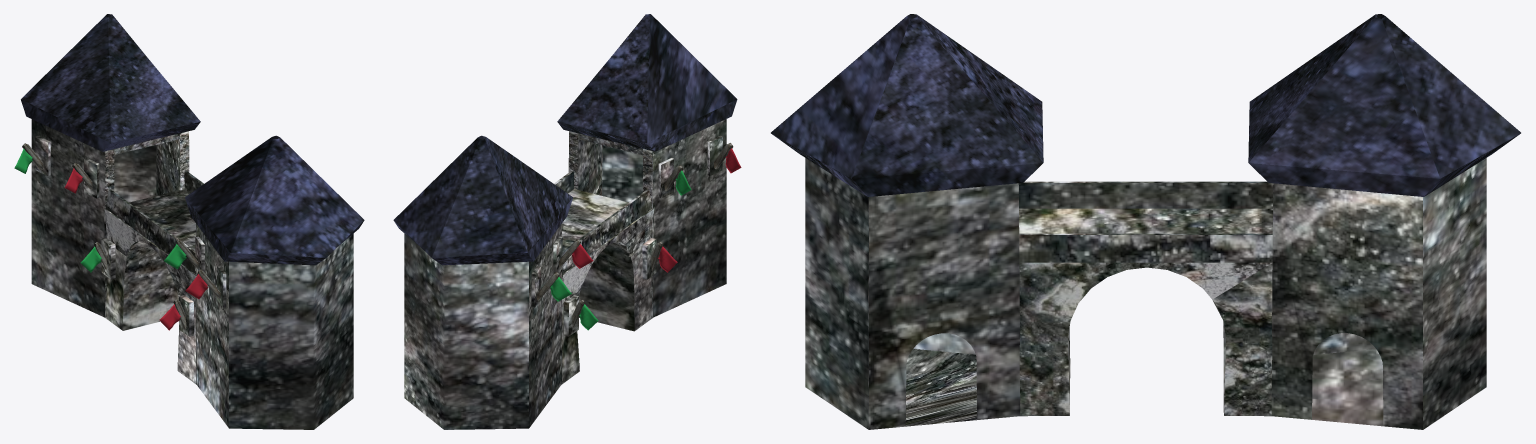
The model's file is it's lit.fbx.
3 views of the same model, side by side, from view 1: azimuth 30°, elevation 25°; view 2: azimuth 150°, elevation 25°; view 3: azimuth 270°, elevation 25° (orthographic). The views are drawn at different scales.
Parts seen in each view (by area): view 1: Cube.011, Cube.002, Cube.001, Plane.002, Plane.004, Plane.001, Plane.008; view 2: Cube.011, Cube.002, Cube.001, Plane.001, Plane.008, Plane.004, Plane.002; view 3: Cube.011, Cube.002, Cube.001.
Part boxes in pixels (x1,y1,x2,y2): Cube.011: (31, 119, 353, 429); Cube.002: (21, 14, 364, 265); Cube.001: (106, 171, 203, 273); Plane.002: (164, 239, 198, 269); Plane.004: (185, 269, 220, 298); Plane.001: (14, 143, 42, 173); Plane.008: (64, 163, 92, 193); Cube.011: (404, 119, 726, 429); Cube.002: (393, 14, 737, 265); Cube.001: (554, 170, 651, 274); Plane.001: (537, 272, 571, 301); Plane.008: (559, 239, 593, 268); Plane.004: (714, 143, 741, 173); Plane.002: (664, 165, 691, 195); Cube.011: (805, 158, 1486, 429); Cube.002: (771, 14, 1520, 196); Cube.001: (1018, 181, 1272, 262).
Size of the model in its own units: 282 by 446 by 818.
